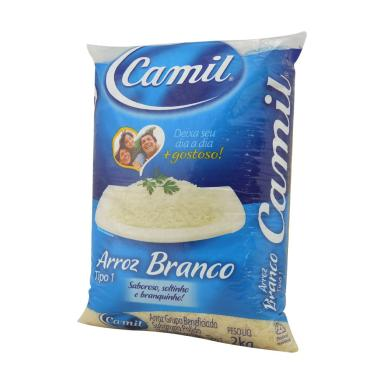rice package: (80, 33, 305, 351)
